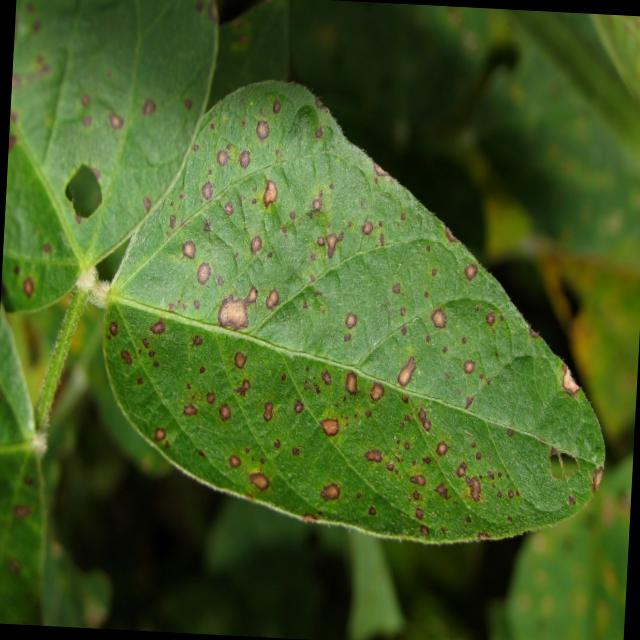leaf_spot: (103, 82, 604, 543)
